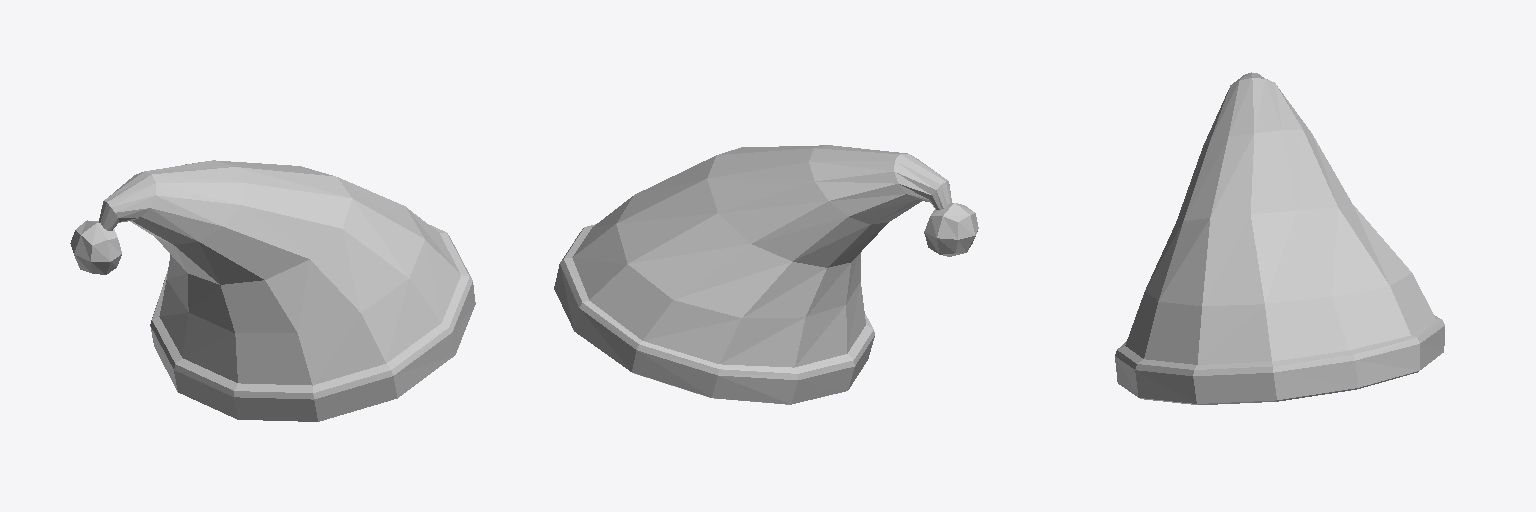
The model's file is christmas_basic.sgm.obj.
The picture shows the model from 3 angles: view 1: azimuth 30°, elevation 25°; view 2: azimuth 150°, elevation 25°; view 3: azimuth 270°, elevation 25°; orthographic projection.
Bounding box in the file's own units: 0.5956 × 0.3522 × 0.4379.